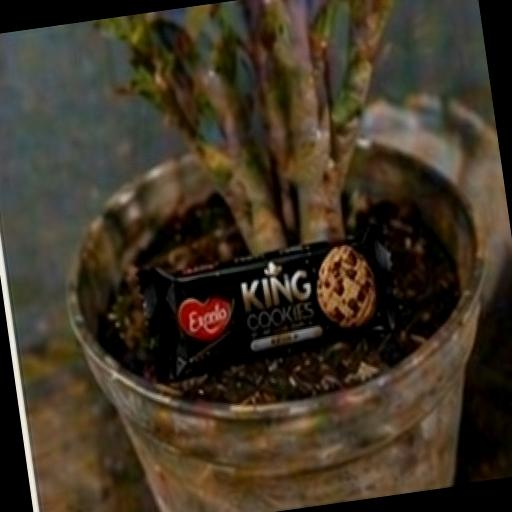king-cooking: (100, 168, 480, 439)
